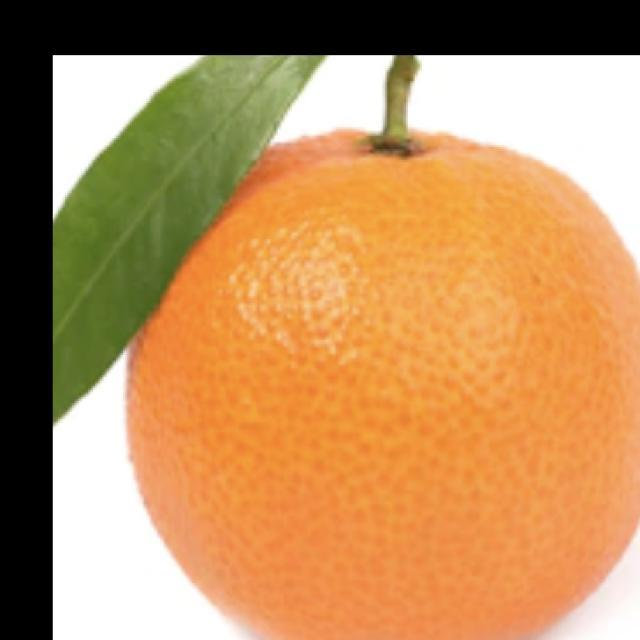Orange: (120, 116, 638, 640)
